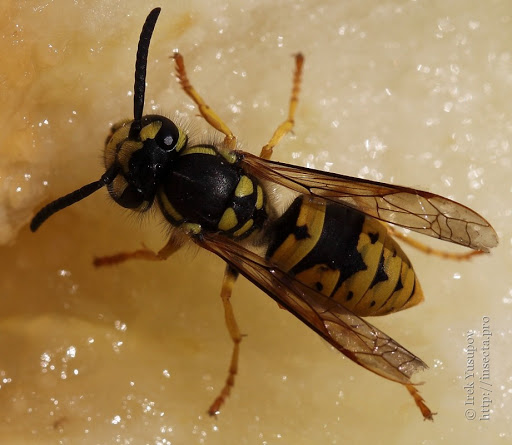chax: (15, 3, 463, 393)
